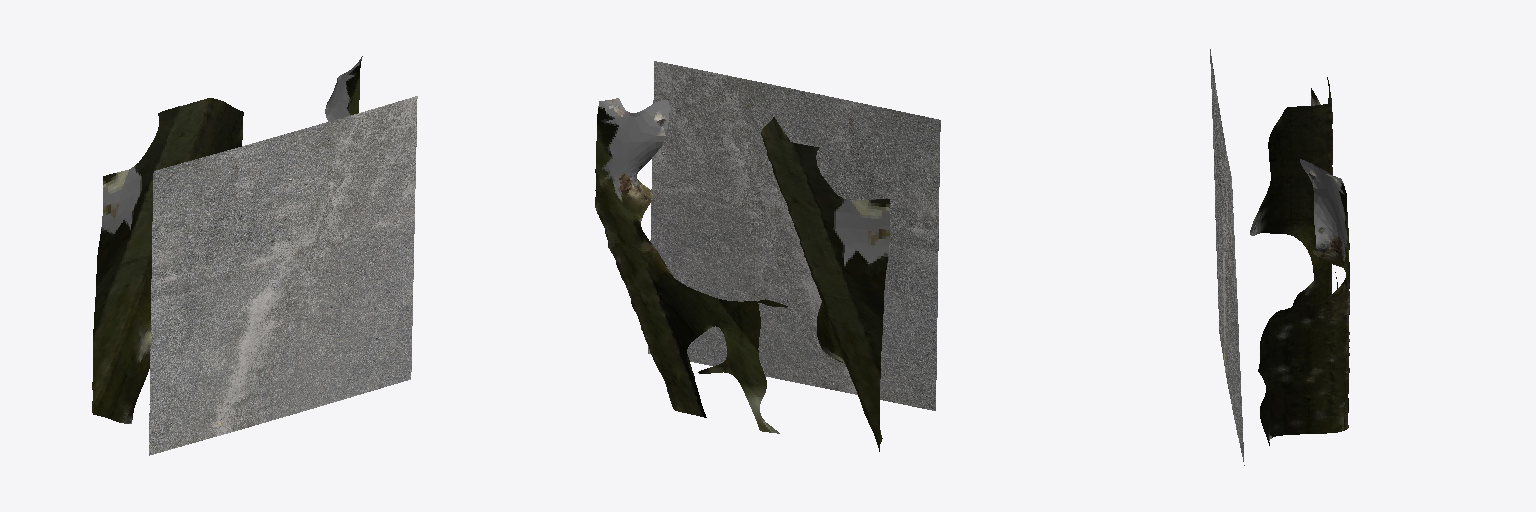
3 renders of one model, left to right at view 1: azimuth 30°, elevation 25°; view 2: azimuth 150°, elevation 25°; view 3: azimuth 270°, elevation 25°, orthographic.
Size of the model in its own units: 3.03 by 3.03 by 1.34.
2 materials, 1 textured.